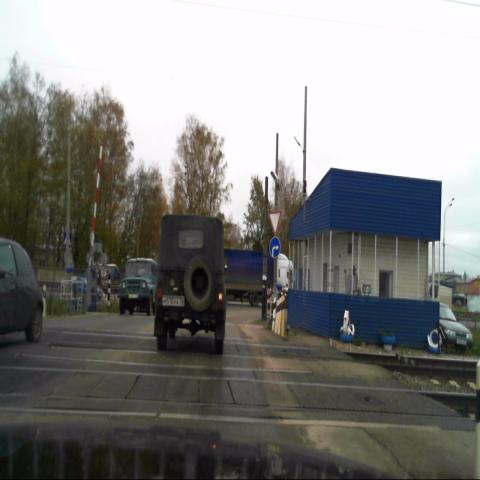4_1_2: (269, 236, 280, 257)
